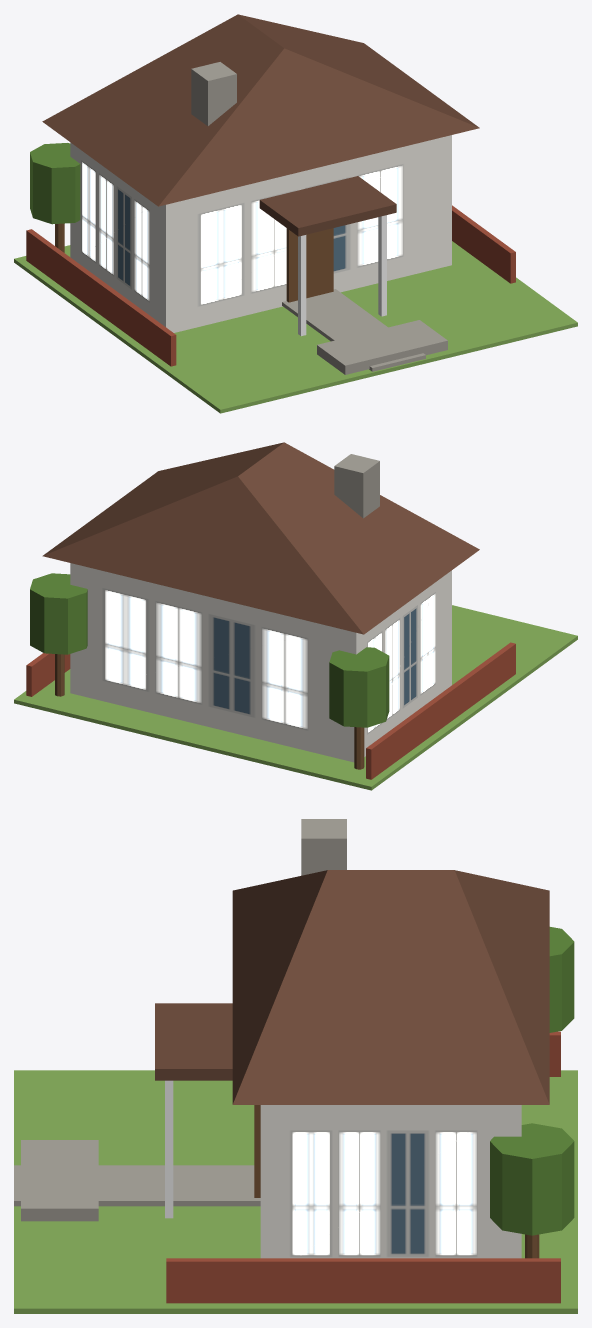
File: rl-atlas.glb
The picture shows the model from 3 angles, top to bottom: view 1: azimuth 30°, elevation 25°; view 2: azimuth 150°, elevation 25°; view 3: azimuth 270°, elevation 25°; orthographic projection. The views are drawn at different scales.
Parts seen in each view (by area): view 1: atlas; view 2: atlas; view 3: atlas.
Boxes of the visible parts, bbox=[...] form: atlas: bbox=[14, 14, 577, 413]; atlas: bbox=[14, 442, 577, 790]; atlas: bbox=[14, 819, 577, 1313].
Bounding box in the file's own units: 8 × 5.08 × 8.
Materials: 1 (1 with a texture image).
